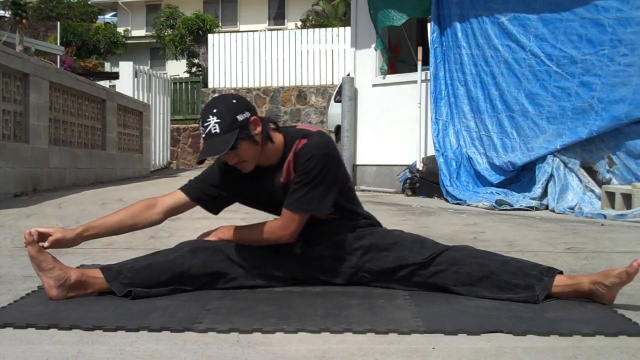person: (38, 96, 569, 296)
